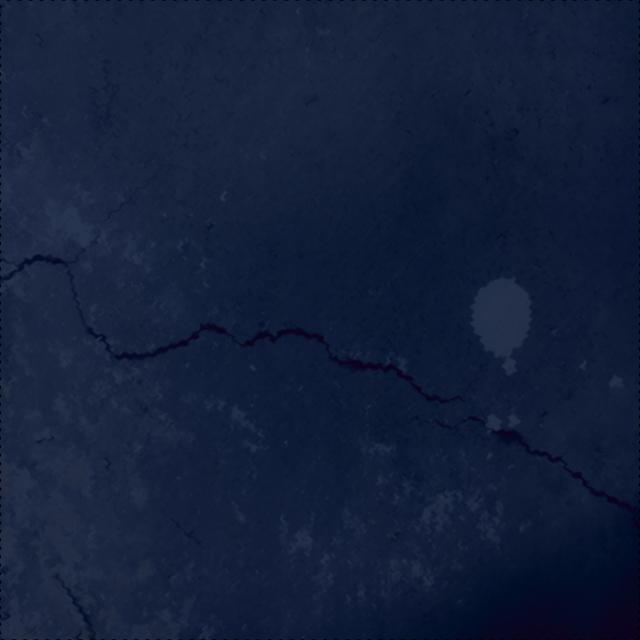crack: (0, 33, 475, 404), (352, 413, 640, 535)
